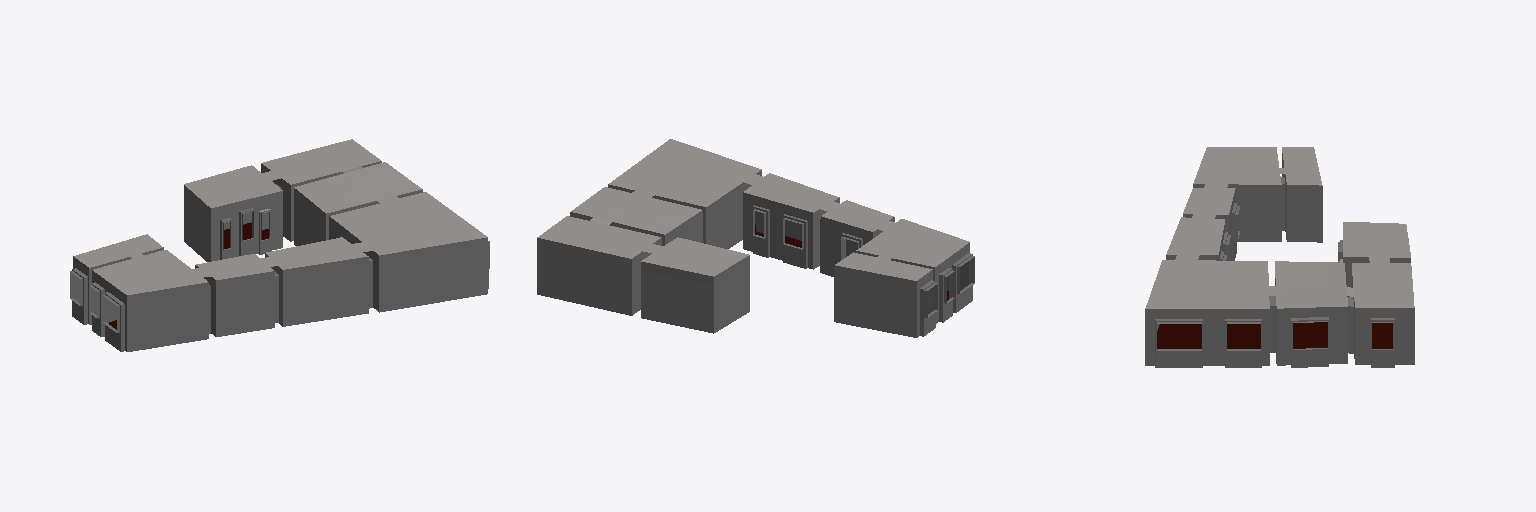
Rendered from mozarthaus_v03.obj.
3 views of the same model, side by side, from view 1: azimuth 30°, elevation 25°; view 2: azimuth 150°, elevation 25°; view 3: azimuth 270°, elevation 25° (orthographic).
Parts seen in each view (by area): view 1: Mozart_Hause_Plane; view 2: Mozart_Hause_Plane; view 3: Mozart_Hause_Plane.
Boxes of the visible parts, box(x1,y1,x2,y2) form: Mozart_Hause_Plane: box(70, 139, 489, 351); Mozart_Hause_Plane: box(537, 139, 974, 337); Mozart_Hause_Plane: box(1145, 147, 1414, 367).
Bounding box in the file's own units: 6.51 × 1.05 × 4.39.